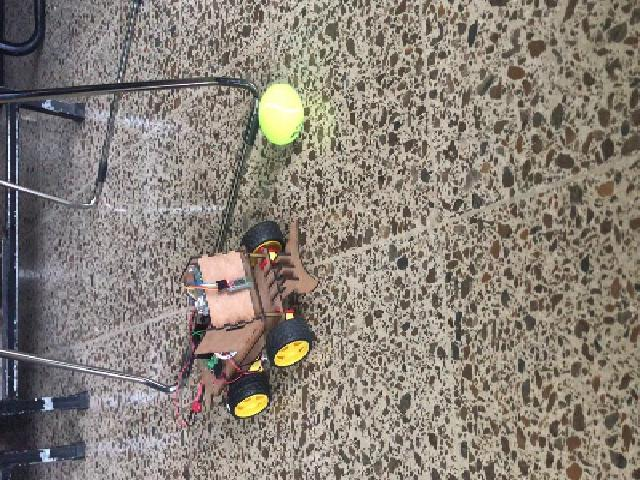Ball: (259, 84, 299, 144)
Robot: (178, 220, 317, 418)
